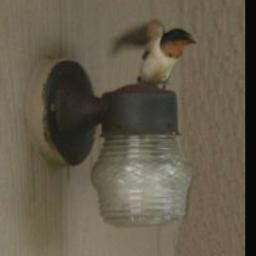Swallow: (108, 17, 196, 89)
